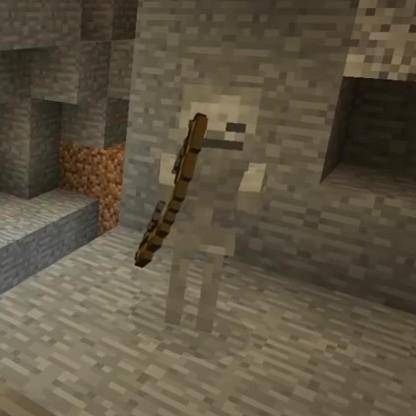skeleton: (161, 82, 264, 334)
